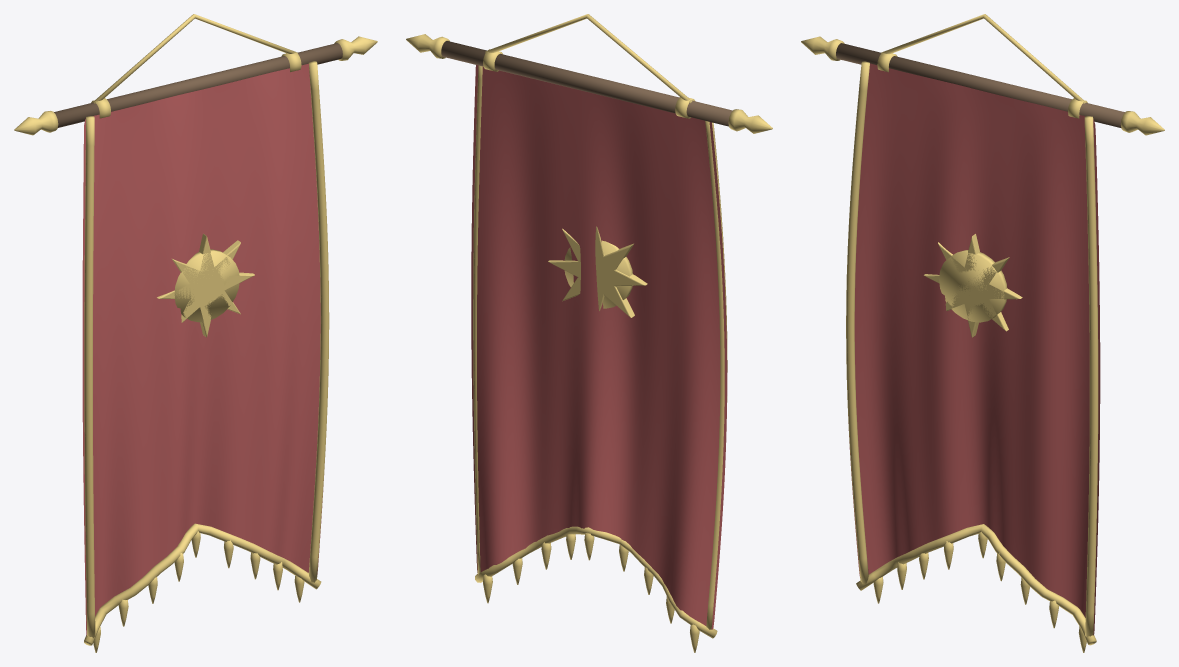
Rendered from tavern_banner.glb.
3 views of the same model, side by side, from view 1: azimuth 30°, elevation 25°; view 2: azimuth 150°, elevation 25°; view 3: azimuth 330°, elevation 25° (orthographic).
Visible parts, largest first — view 1: BannerCloth, BannerTrimR, BannerTrimL, BannerHardwareRod, BannerTrimStar, BannerTrimBot, BannerTrimRing, BannerHardwareCord, BannerHardwareFinial_L, BannerHardwareFinial_R; view 2: BannerCloth, BannerHardwareRod, BannerTrimL, BannerTrimStar, BannerTrimR, BannerTrimBot, BannerHardwareCord, BannerTrimRing, BannerHardwareFinial_L, BannerHardwareFinial_R; view 3: BannerCloth, BannerTrimR, BannerTrimL, BannerHardwareRod, BannerTrimRing, BannerTrimBot, BannerTrimStar, BannerHardwareCord, BannerHardwareFinial_R, BannerHardwareFinial_L.
Part boxes in pixels (x1,y1,x2,y2): BannerCloth: (82,63,323,635); BannerTrimR: (308,61,329,582); BannerTrimL: (84,116,95,638); BannerHardwareRod: (54,43,342,127); BannerTrimStar: (157,233,254,337); BannerTrimBot: (84,523,321,645); BannerTrimRing: (174,249,239,322); BannerHardwareCord: (92,14,297,103); BannerHardwareFinial_L: (14,111,58,135); BannerHardwareFinial_R: (334,36,377,60); BannerCloth: (471,65,727,629); BannerHardwareRod: (441,41,732,126); BannerTrimL: (705,121,727,629); BannerTrimStar: (548,226,647,317); BannerTrimR: (473,65,482,574); BannerTrimBot: (475,526,717,638); BannerHardwareCord: (485,14,692,103); BannerTrimRing: (564,240,632,308); BannerHardwareFinial_L: (728,109,772,133); BannerHardwareFinial_R: (406,34,449,58); BannerCloth: (848,63,1100,635); BannerTrimR: (1084,115,1098,637); BannerTrimL: (846,61,869,584); BannerHardwareRod: (836,43,1124,127); BannerTrimRing: (939,250,1006,322); BannerTrimBot: (856,524,1096,645); BannerTrimStar: (924,234,1022,337); BannerHardwareCord: (880,14,1086,103); BannerHardwareFinial_R: (1120,111,1164,135); BannerHardwareFinial_L: (801,36,844,60).
Size of the model in its own units: 1.22 by 1.96 by 0.1179.
